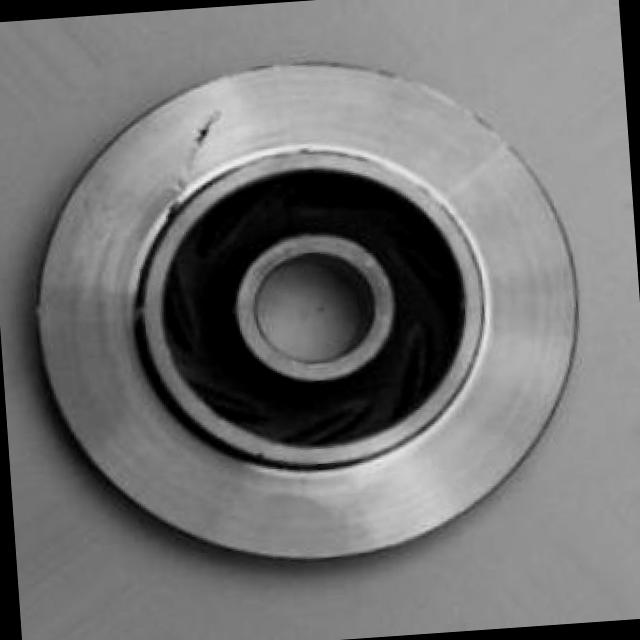Defect: (166, 111, 241, 160)
